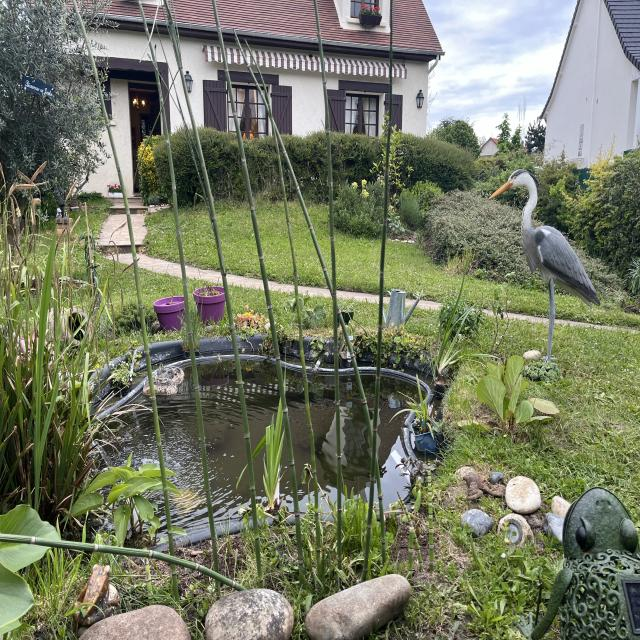Heron: (484, 162, 604, 378)
